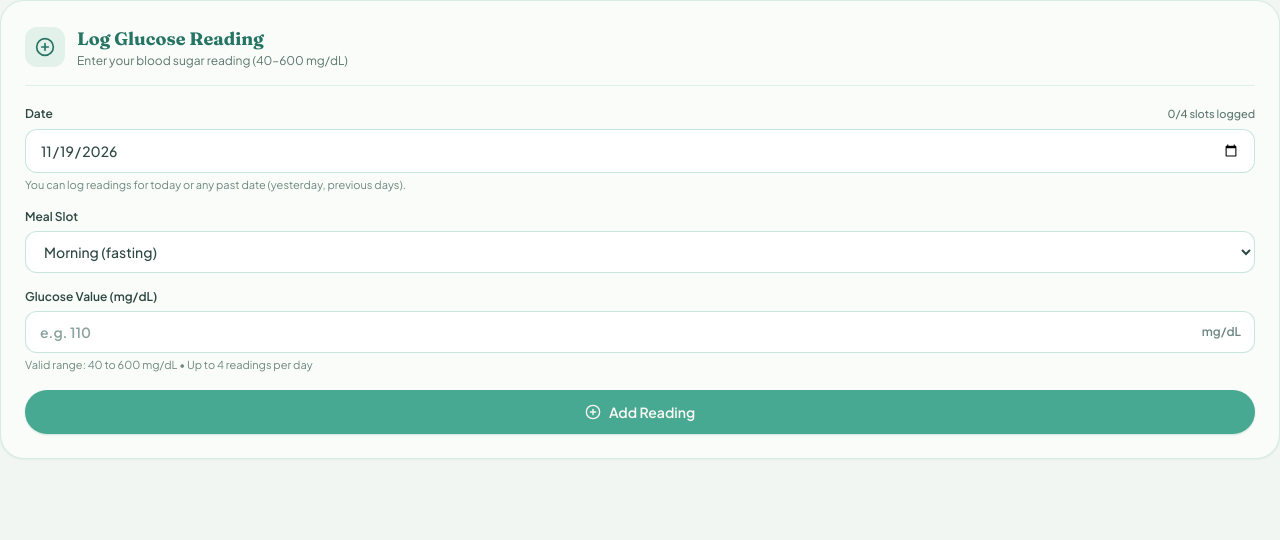
Test: ReadingForm Component › shows error when date is in the future
The width and height of the screenshot is (1280, 540).
Type "2099-12-31" into the date field labelled "Date" at (640, 150), box [25,128,1255,172]
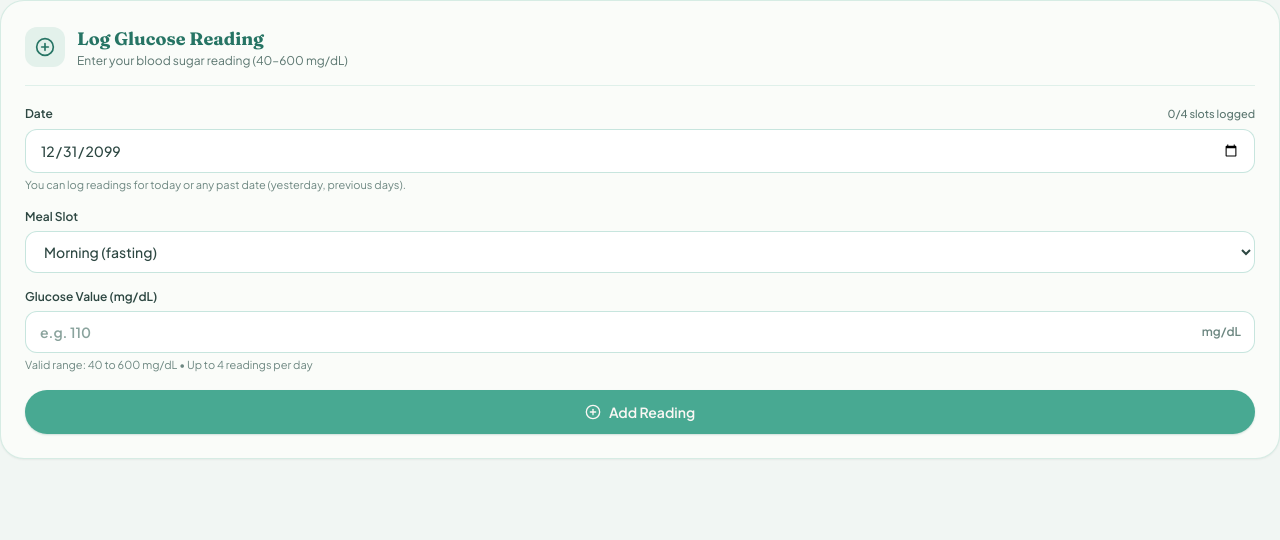
Type "110" into the number field with placeholder "e.g. 110" at (640, 332), box [25,311,1255,353]
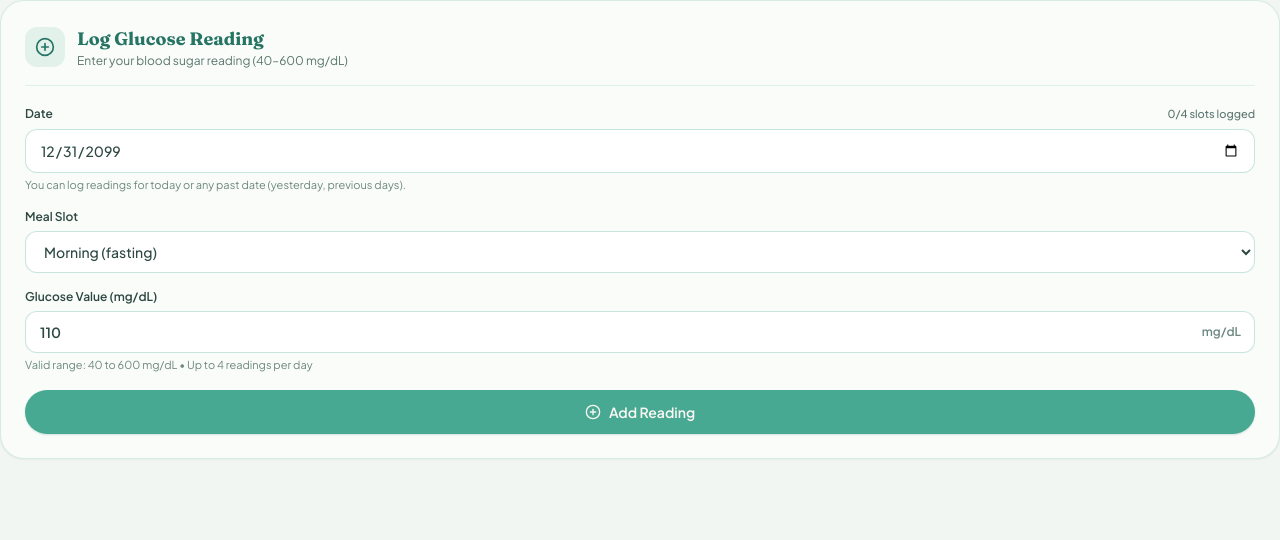
Click the button "Add Reading" at (640, 412), box [25,390,1255,434]
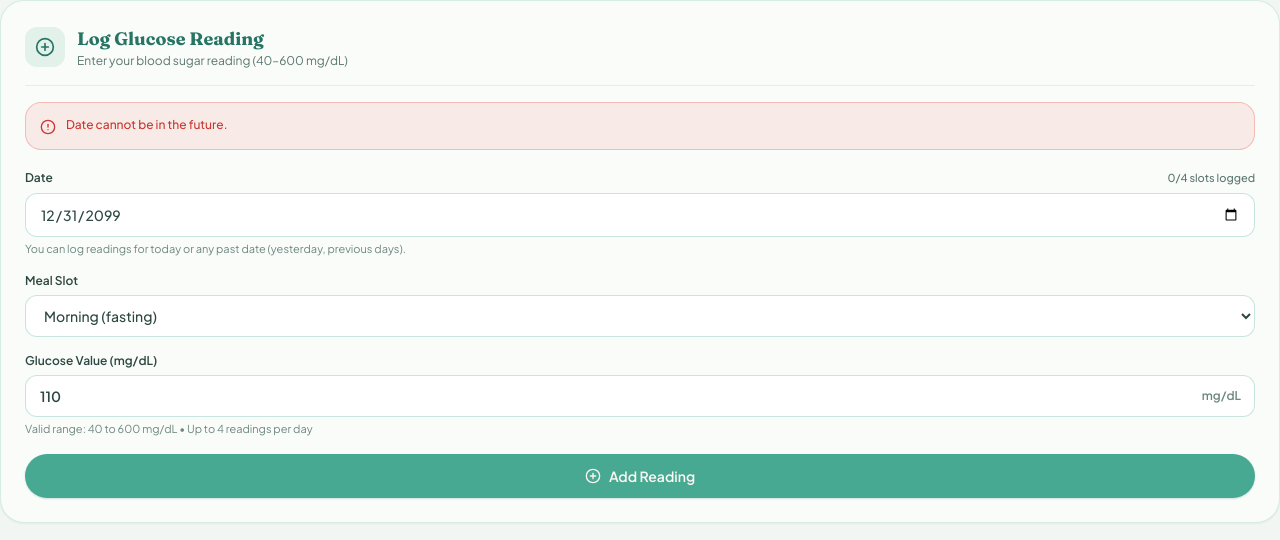
Check: the text "Date cannot be in the future." is shown, box [66,117,228,133]
